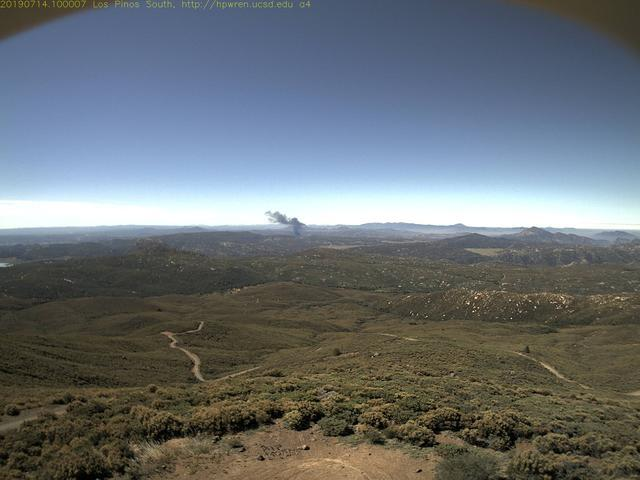smoke: (259, 204, 309, 241)
